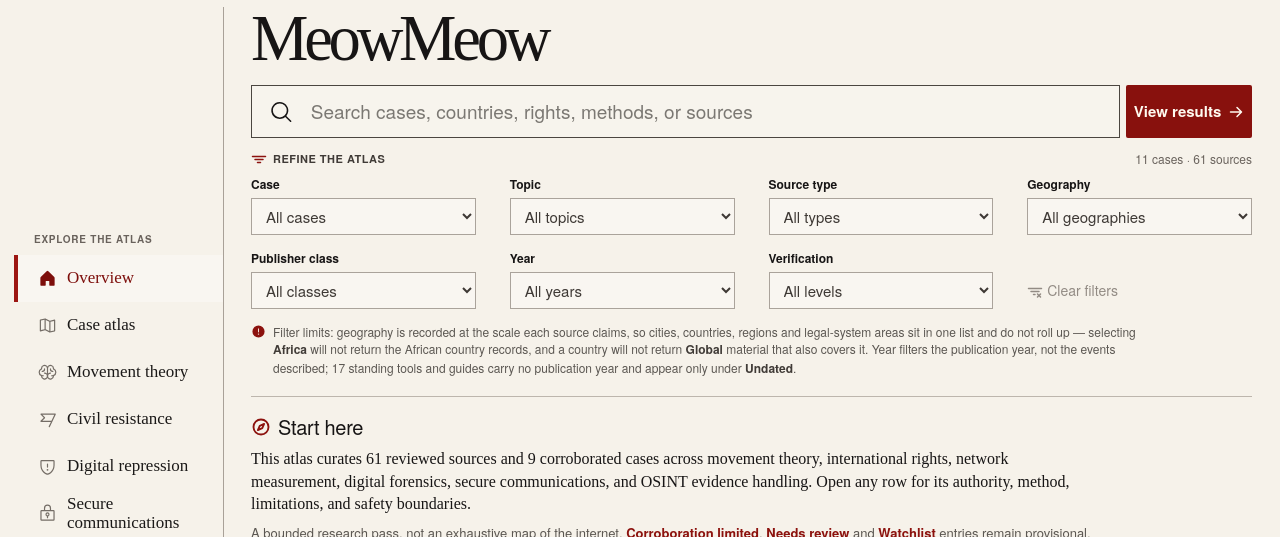
evidence disclosure › marks provisional cases rather than presenting them as settled
The width and height of the screenshot is (1280, 537).
Select "Morocco GenZ 212 protests" in the dropdown labelled "Case": (363, 216) [251, 198, 476, 235]
(page scrolled)
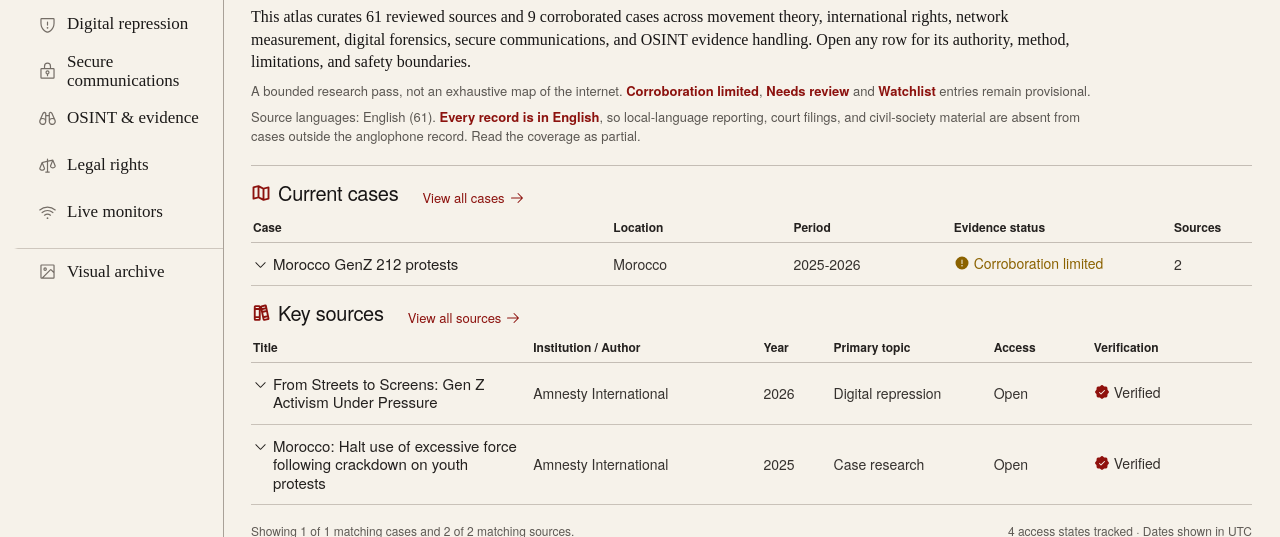
Expected: the text "Corroboration limited" is shown, [954, 254, 1103, 271]
The limitation is stated in the case's own evidence note, not just as a badge.
Click the button "Morocco GenZ 212 protests": (356, 264) [253, 251, 458, 277]
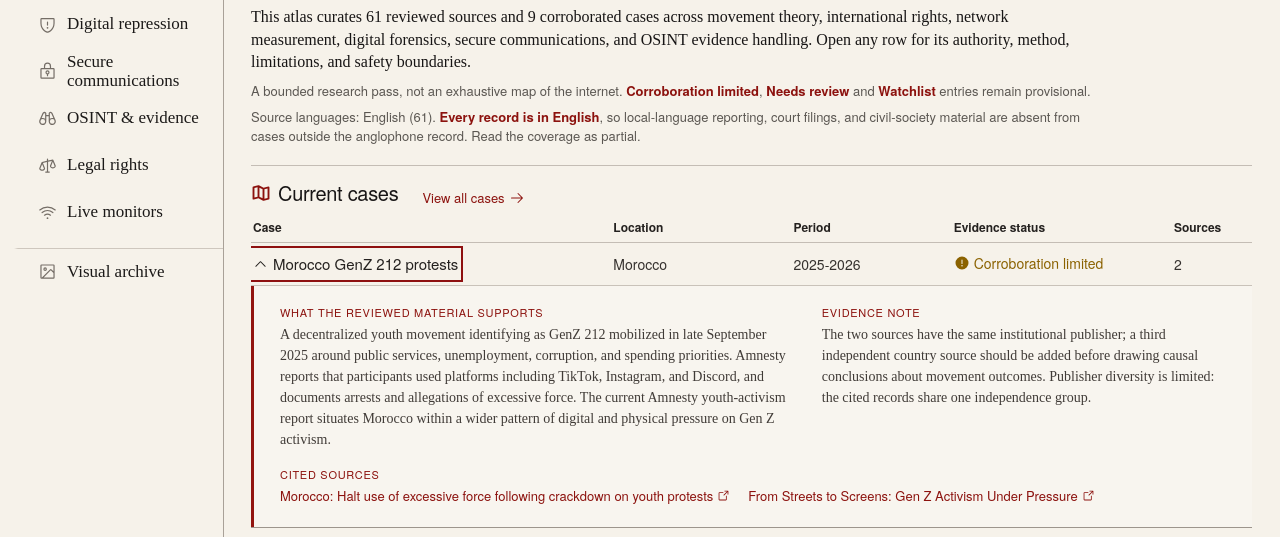
Expected: the text "share one independence group" is shown, [822, 327, 1214, 405]
